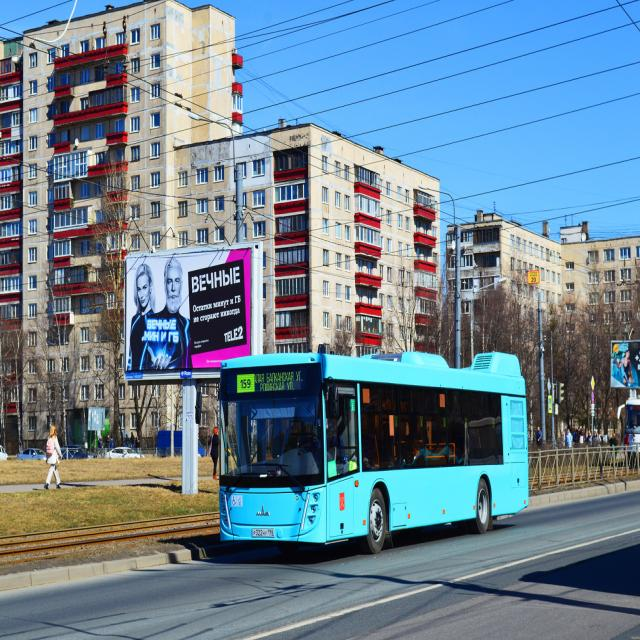number-of-bus: (241, 378, 254, 390)
